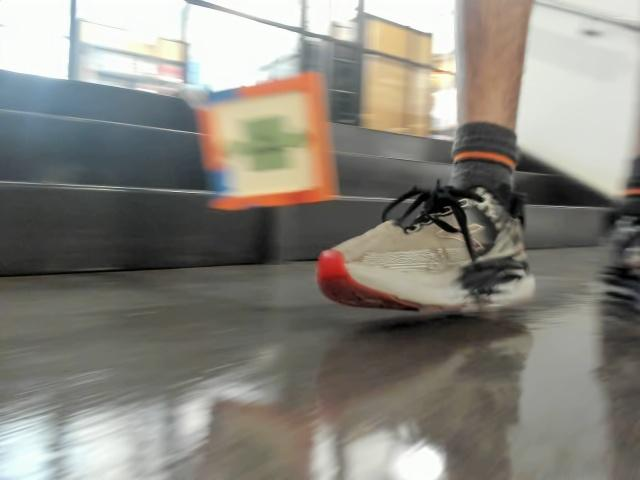Go Around: (222, 125, 305, 177)
